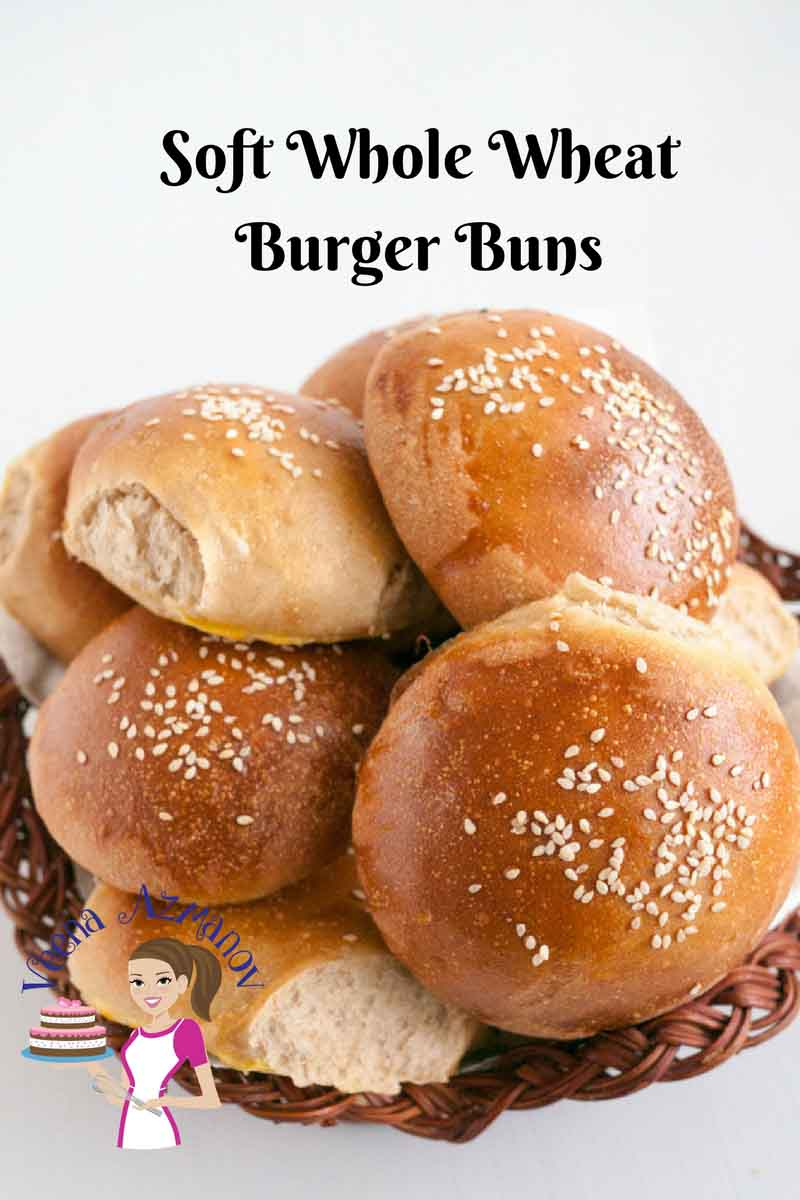hamburger_buns: (366, 559, 798, 1082), (384, 320, 721, 624), (17, 638, 363, 933), (48, 378, 407, 641)
